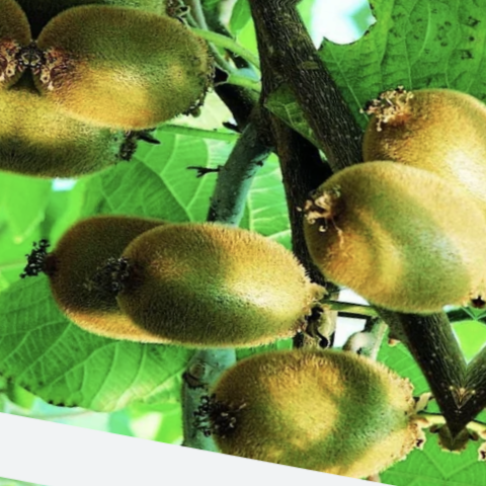kiwi: (92, 186, 343, 388), (165, 305, 435, 486), (284, 146, 486, 357), (22, 0, 228, 156)
